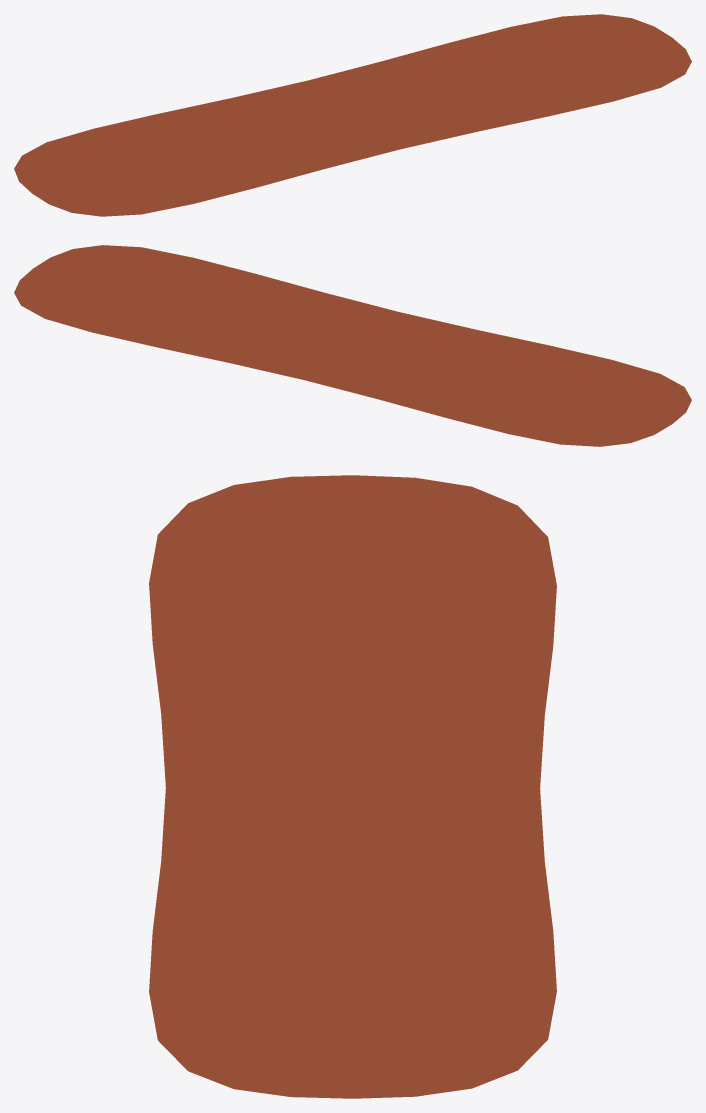
The model's file is Podłoga.fbx.
The picture shows the model from 3 angles, top to bottom: view 1: azimuth 30°, elevation 25°; view 2: azimuth 150°, elevation 25°; view 3: azimuth 270°, elevation 25°; orthographic projection. The views are drawn at different scales.
Parts seen in each view (by area): view 1: Plane; view 2: Plane; view 3: Plane.
Part boxes in pixels (x1=…): Plane: x1=14, y1=14, x2=691, y2=216; Plane: x1=14, y1=245, x2=691, y2=446; Plane: x1=149, y1=475, x2=556, y2=1098.
Size of the model in its own units: 584 by 2.63e-05 by 161.
